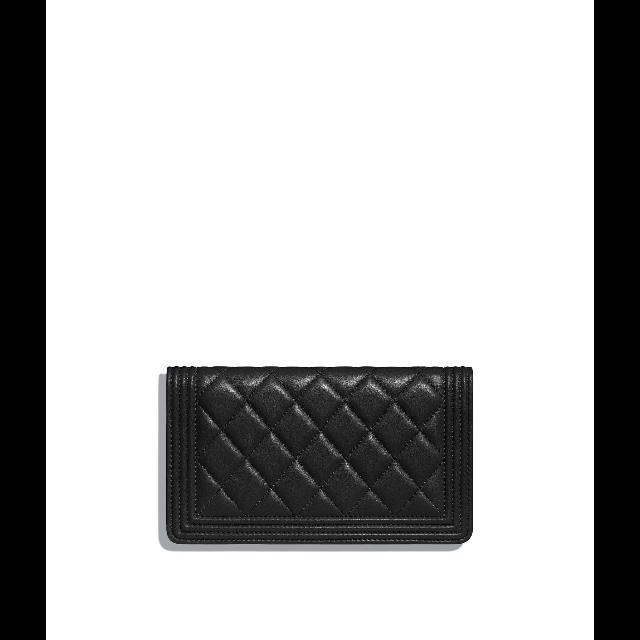Wallet: (168, 364, 472, 544)
